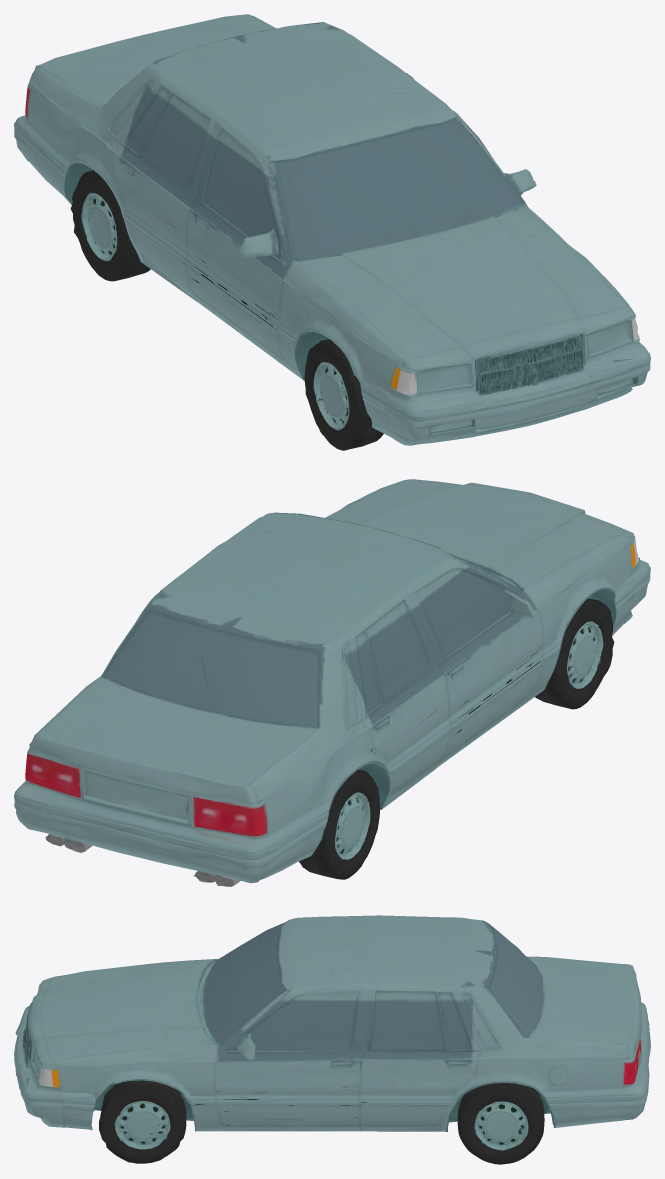
File: sedan-v6.glb
3 renders of one model, top to bottom at view 1: azimuth 30°, elevation 25°; view 2: azimuth 150°, elevation 25°; view 3: azimuth 270°, elevation 25°, orthographic. The views are drawn at different scales.
Visible parts, largest first — view 1: body, wheel_fl_mesh, wheel_rl_mesh; view 2: body, wheel_rl_mesh, wheel_fl_mesh; view 3: body, wheel_fr_mesh, wheel_rr_mesh.
Boxes of the visible parts, <box> form: body: <box>14,14,650,445</box>; wheel_fl_mesh: <box>304,339,383,450</box>; wheel_rl_mesh: <box>70,170,150,281</box>; body: <box>14,479,650,886</box>; wheel_rl_mesh: <box>299,769,379,879</box>; wheel_fl_mesh: <box>535,598,614,709</box>; body: <box>14,915,650,1131</box>; wheel_fr_mesh: <box>99,1080,186,1163</box>; wheel_rr_mesh: <box>457,1083,544,1164</box>.
Bounding box in the file's own units: 0.3926 × 0.2847 × 0.9531.
1 material, 1 textured.
